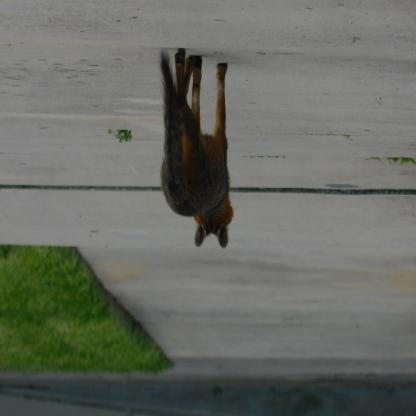zorro: (149, 40, 247, 253)
